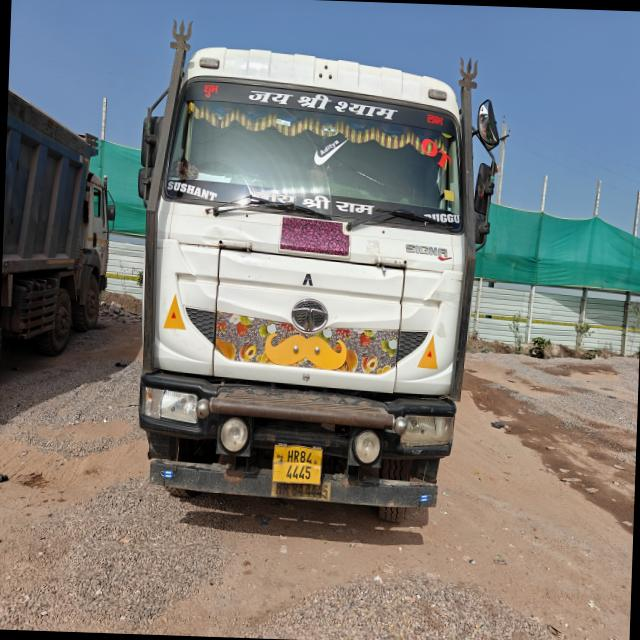license_plate: (273, 445, 322, 485), (271, 483, 330, 501)
